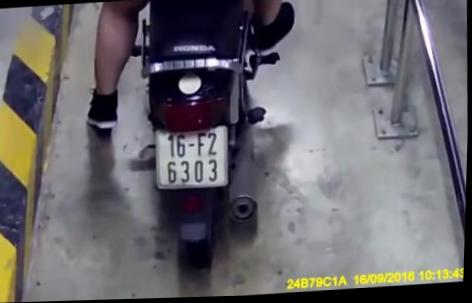LP: (154, 124, 233, 192)
